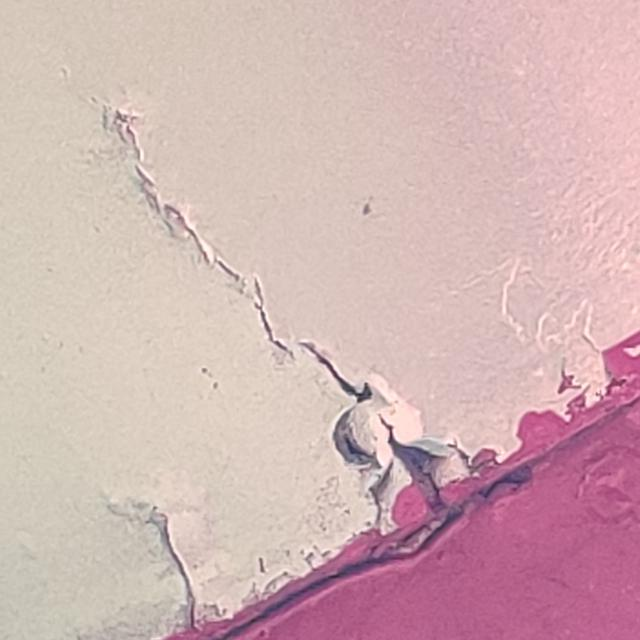crack: (75, 77, 495, 550), (130, 484, 235, 640)
